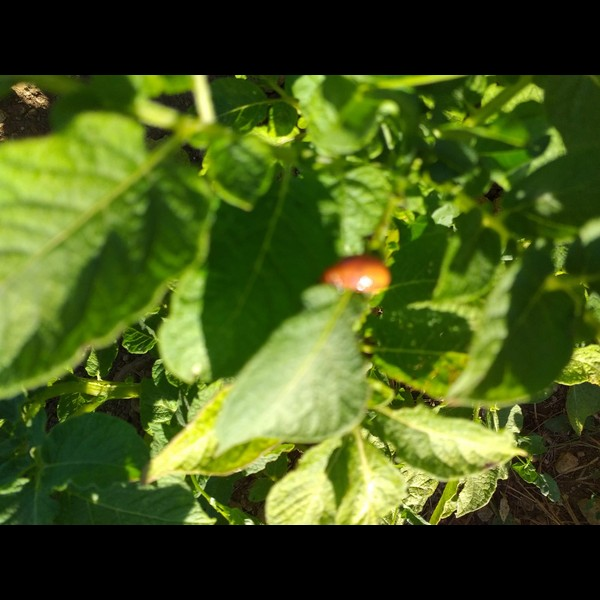hrosc: (323, 253, 394, 298)
